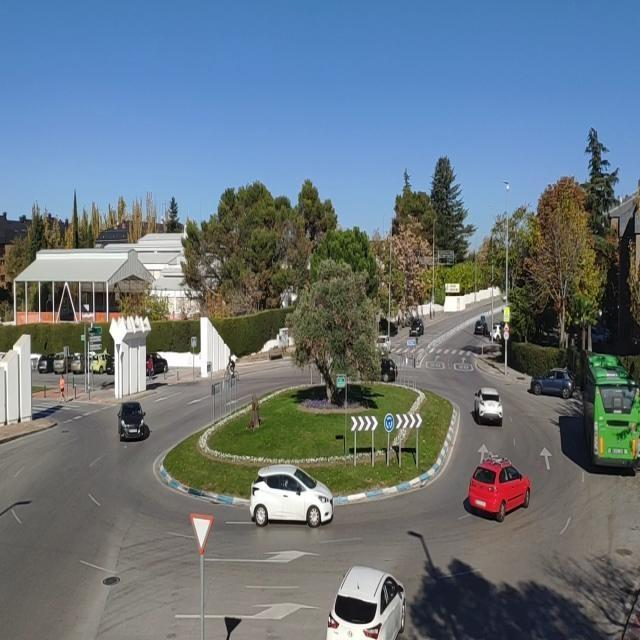Car: (232, 450, 350, 536), (310, 558, 401, 640), (453, 456, 543, 524), (452, 379, 514, 435), (111, 386, 166, 447), (520, 364, 581, 405), (356, 352, 402, 381), (404, 314, 427, 342), (470, 312, 490, 342)
